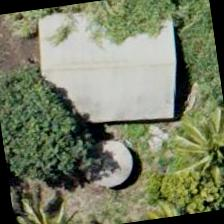Kelapa_Sawit: (166, 103, 223, 201)
